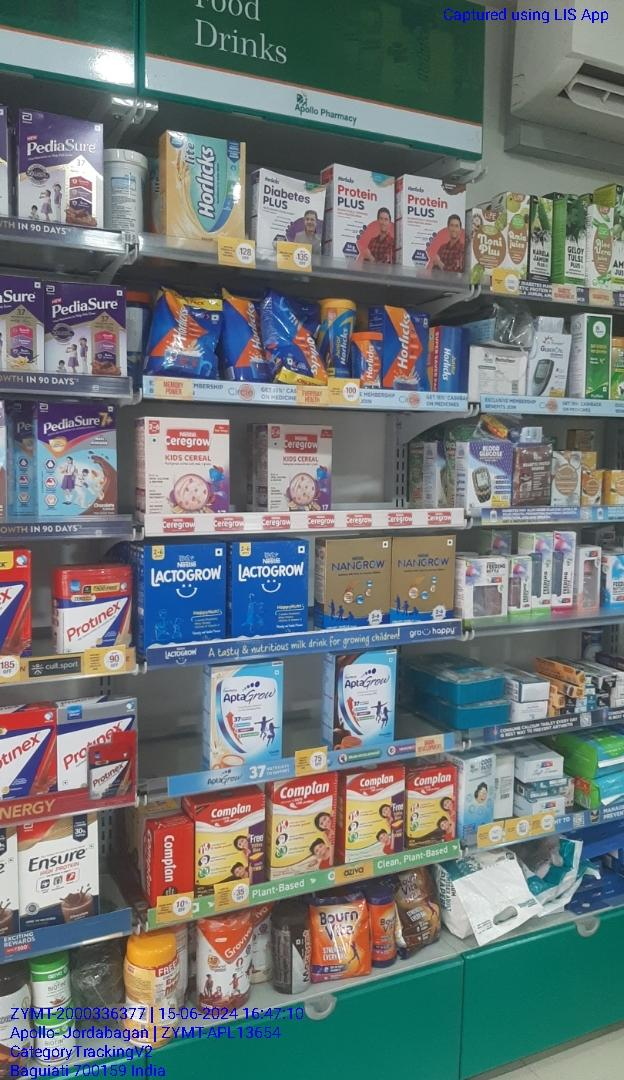BOURN_VITA_500_G_JAR: (372, 896, 396, 967)
BOURN_VITA_500_G_POUCH: (312, 899, 369, 976)
BOURN_VITA_FIVE_STAR_MAGIC_500_G_POUCH: (399, 873, 439, 957)
COMPLAN_CREAMY_CLASSIC_500_G_PACK: (344, 769, 405, 855)
HORLICK_CLASSIC_MALT_200_G_JAR: (356, 332, 382, 390)
HORLICK_CLASSIC_MALT_500_G_PACK: (386, 307, 433, 391)
HORLICK_CLASSIC_MALT_750_G_POUCH: (154, 280, 217, 378)
PEDIASURE_7_PLUS_CHOCOLATE_400_G_PACK: (39, 403, 117, 517)
PEDIASURE_CHOCOLATE_500_G_PACK: (19, 109, 103, 222), (45, 280, 126, 376)
PROTINEX_VANILLA_400_G_JAR: (58, 568, 135, 650)
